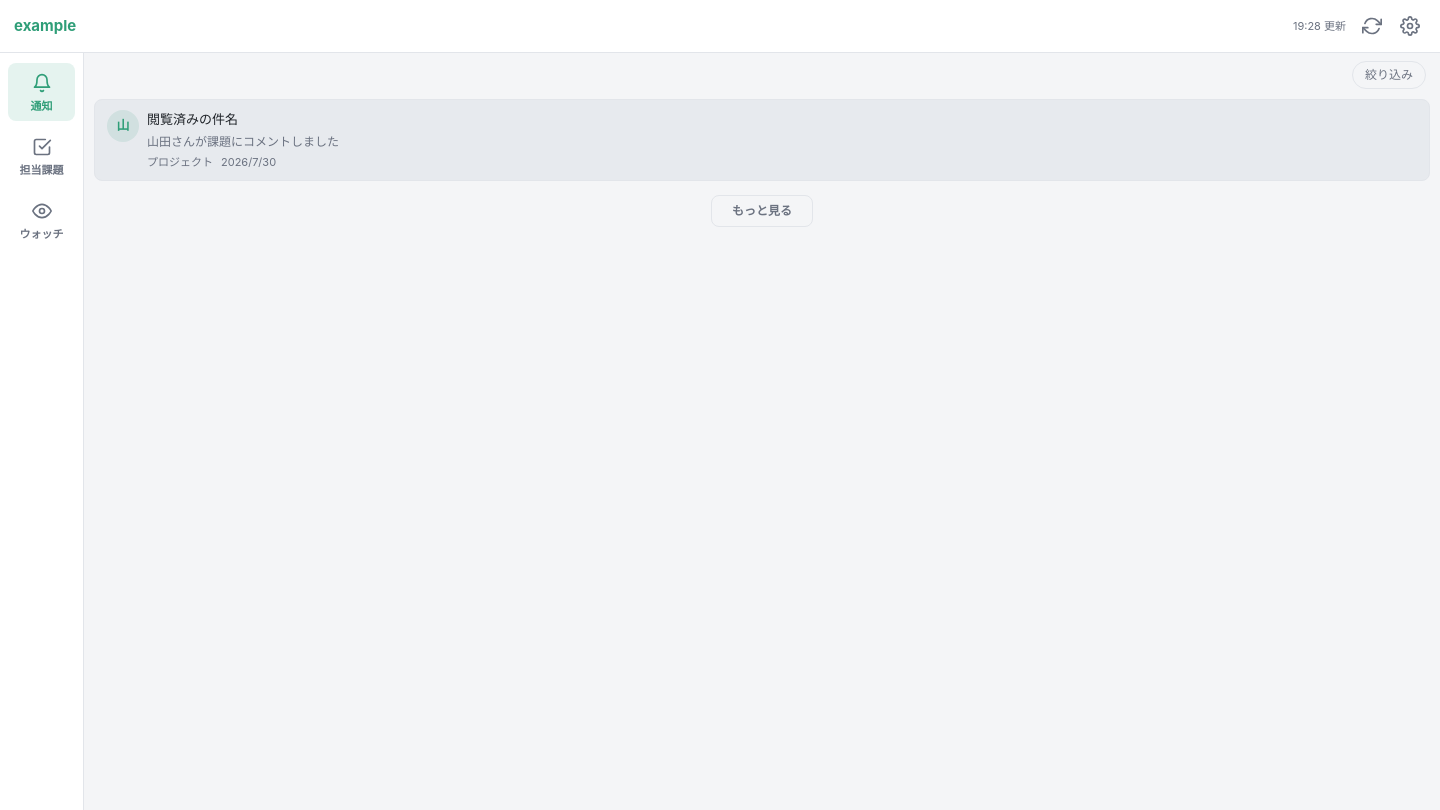
Test case: App の通知の絞り込み › 合致0件でも続きの取得ボタンが残る
This screenshot has width=1440, height=810.
Click the button "絞り込み".
click(1389, 75)  # box [1352,61,1426,89]
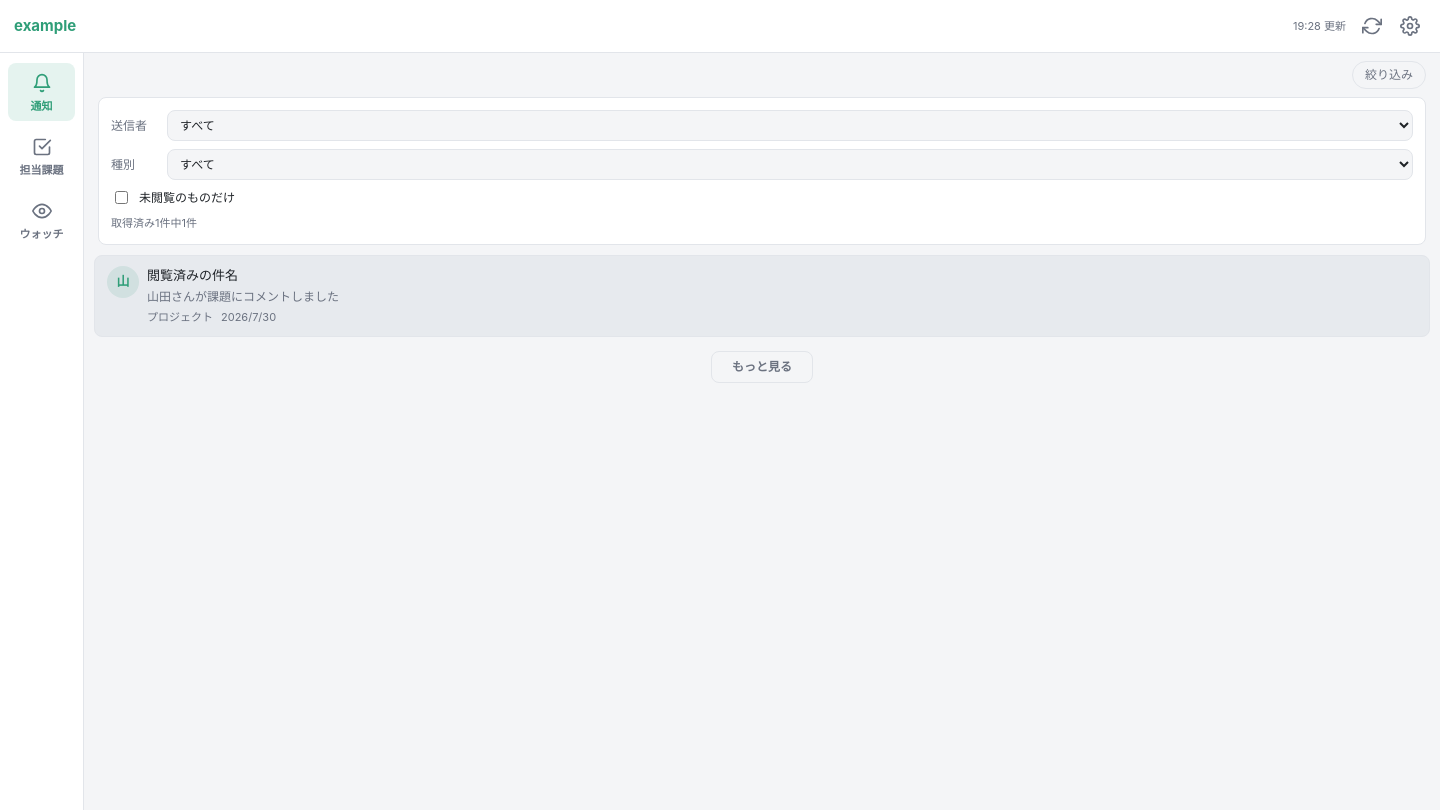
Click the checkbox labelled "未閲覧のものだけ".
click(122, 198)  # box [115,191,128,204]
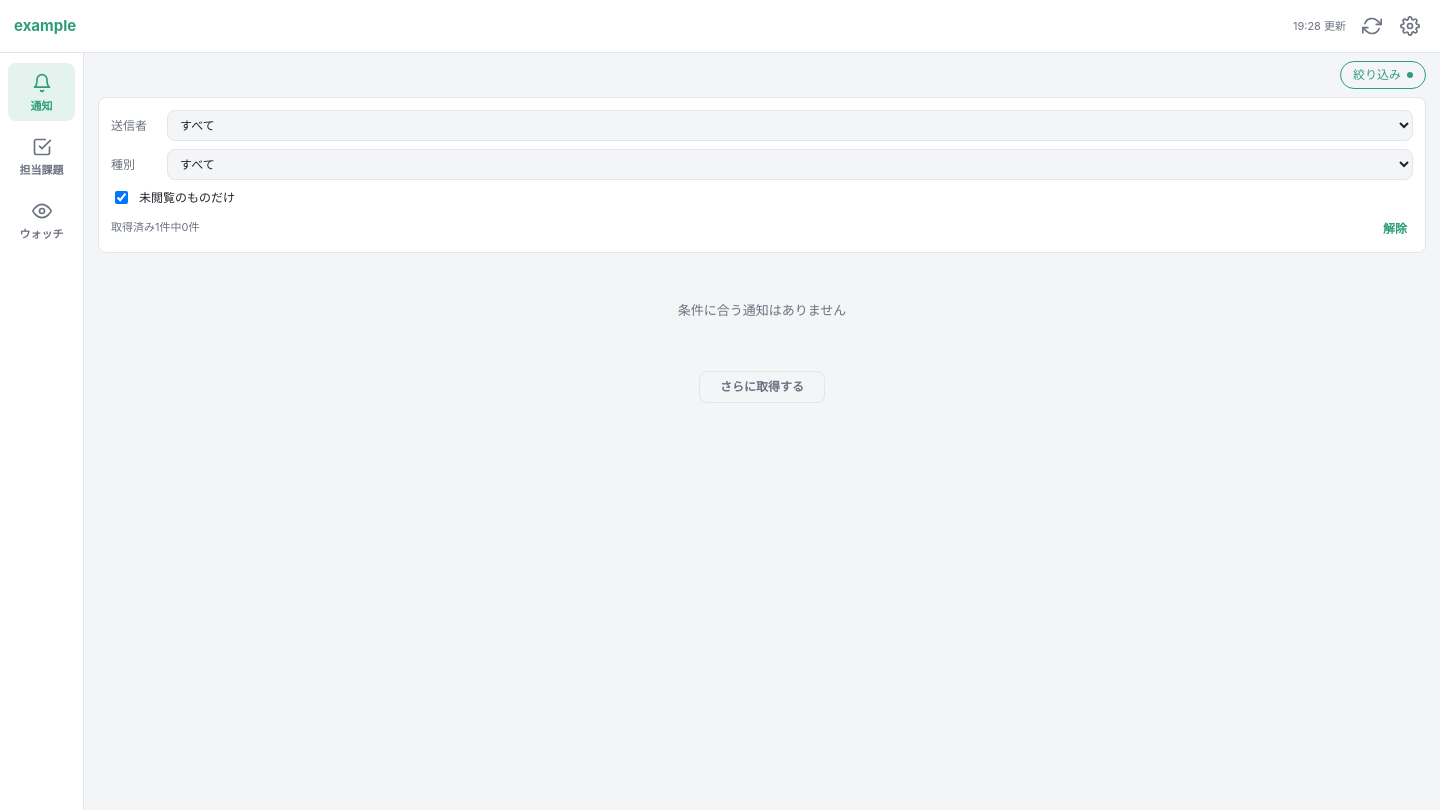
Check: the text "条件に合う通知はありません" is shown, box [678,302,846,318]
Check: the button "さらに取得する" is shown, box [699,370,825,402]
